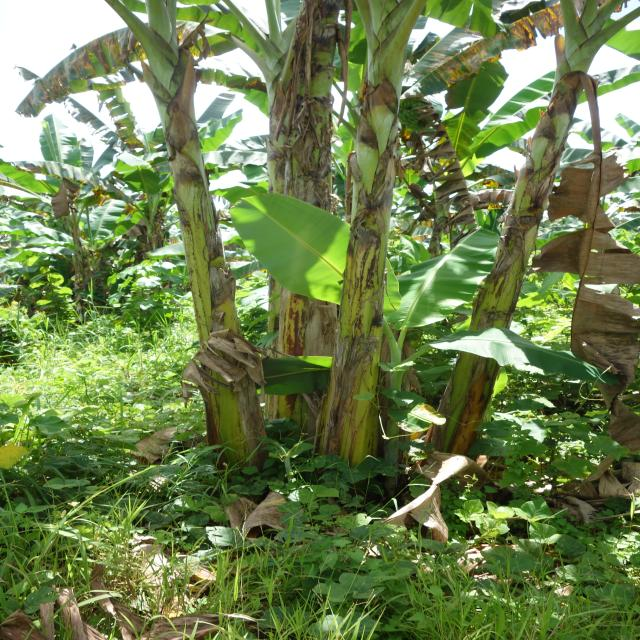Banana-plant: (407, 0, 640, 503), (128, 1, 276, 489), (311, 0, 430, 474), (255, 0, 332, 429)
